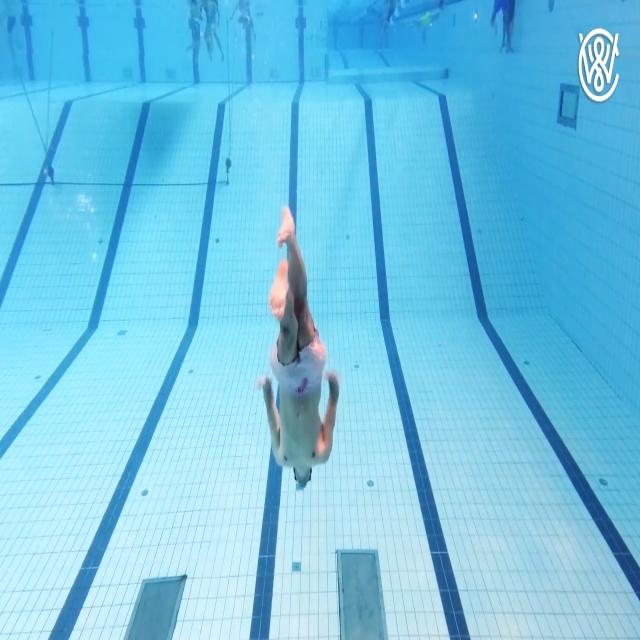Swimming: (257, 203, 341, 490)
